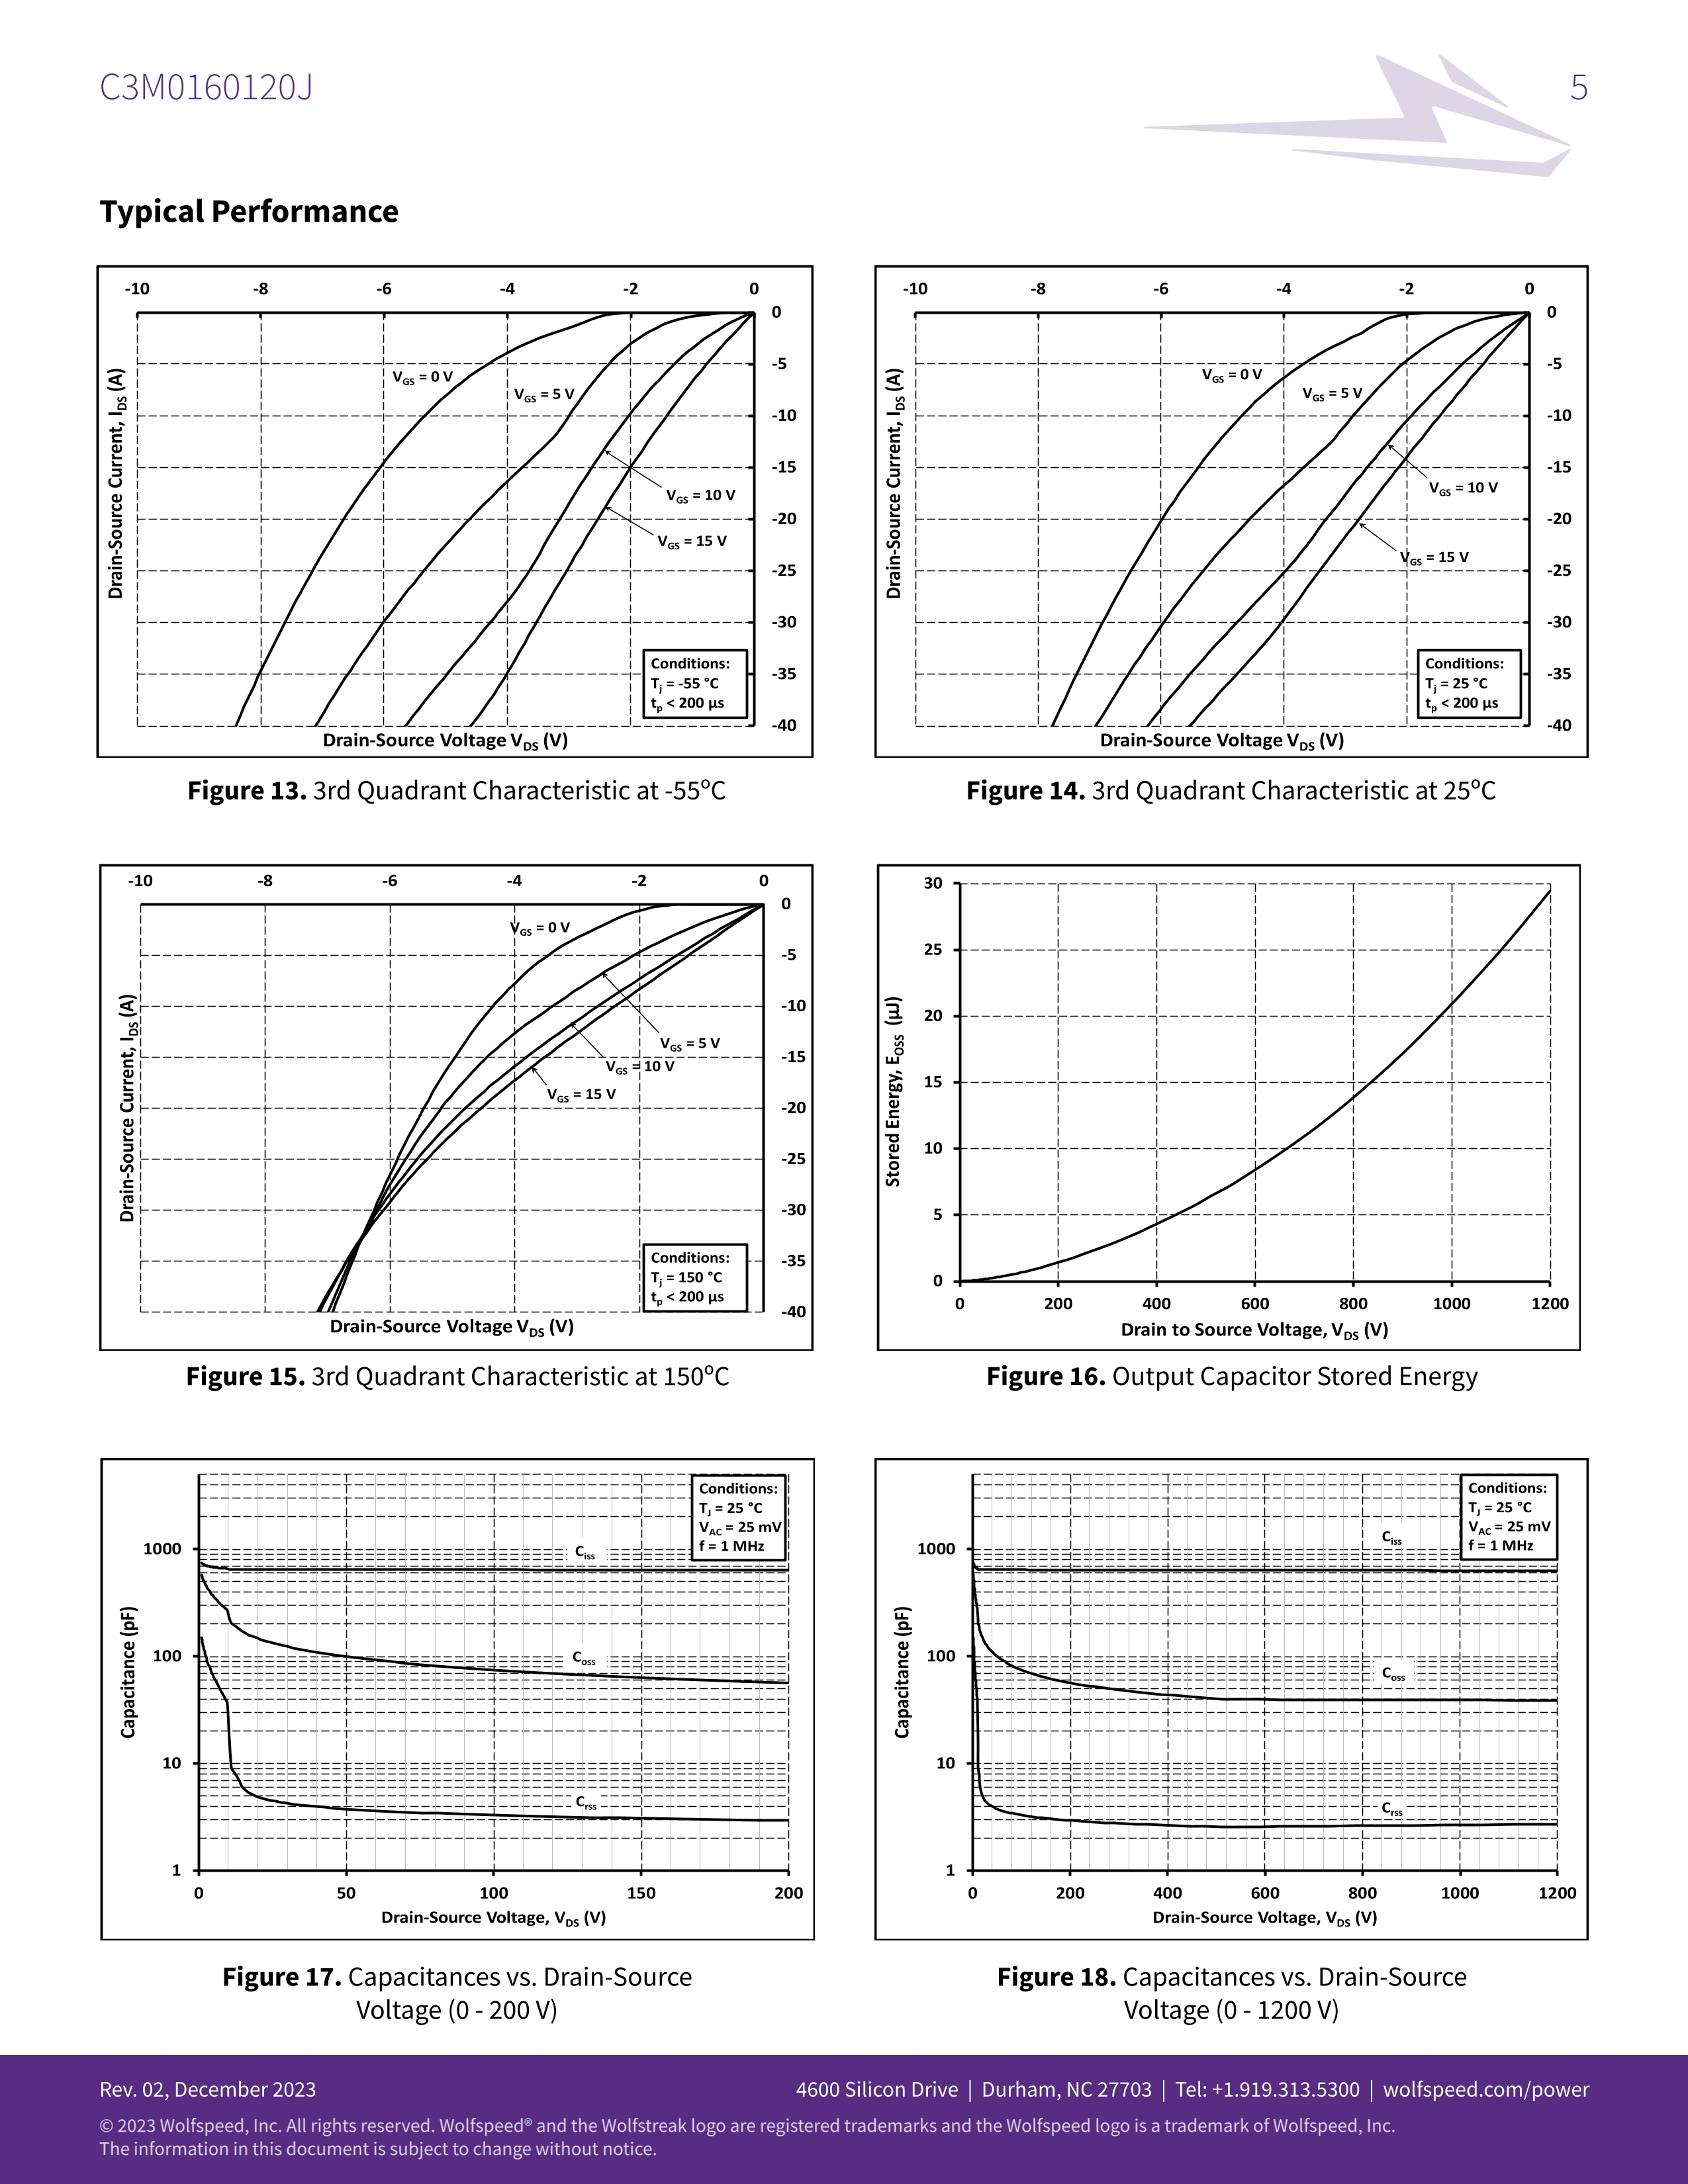diagram: (862, 1445, 1596, 2058), (89, 1443, 828, 2046), (87, 846, 832, 1429), (862, 250, 1592, 828), (85, 253, 821, 824), (856, 840, 1592, 1409)
